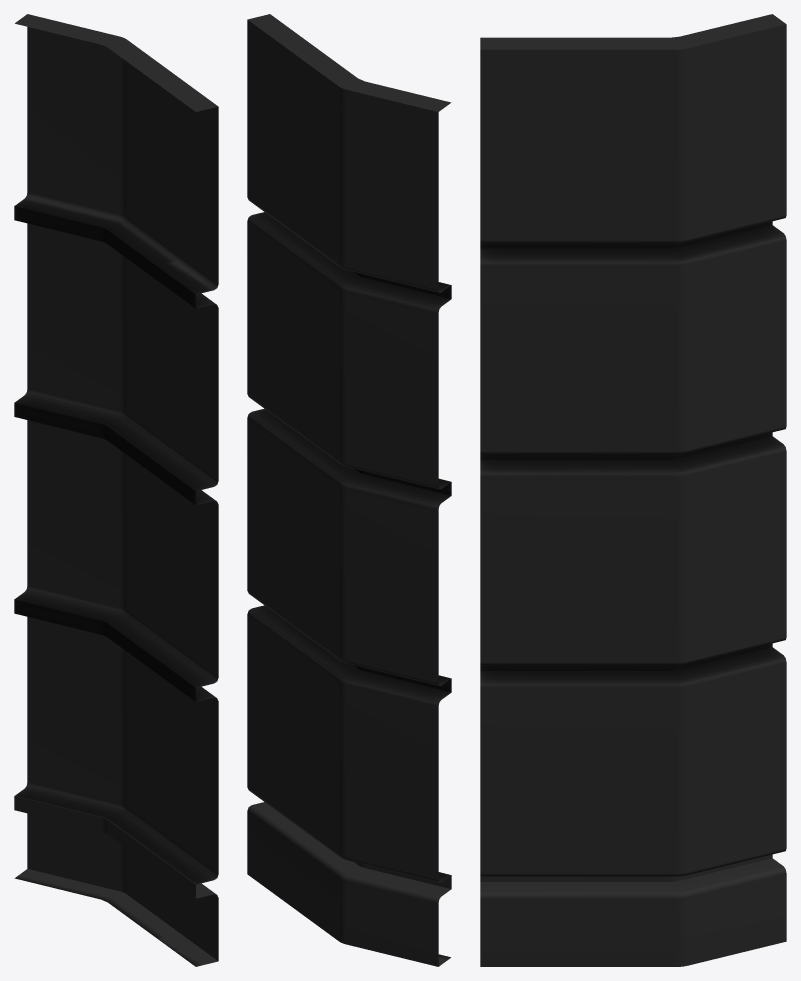
The model's file is XOB_LOT_SW.fbx.
The picture shows the model from 3 angles, left to right: view 1: azimuth 30°, elevation 25°; view 2: azimuth 210°, elevation 25°; view 3: azimuth 270°, elevation 25°; orthographic projection. The views are drawn at different scales.
Visible parts, largest first — view 1: XOB_LOT_SW; view 2: XOB_LOT_SW; view 3: XOB_LOT_SW.
Boxes of the visible parts, x1=… form: XOB_LOT_SW: x1=14, y1=14, x2=218, y2=966; XOB_LOT_SW: x1=247, y1=14, x2=451, y2=966; XOB_LOT_SW: x1=480, y1=14, x2=786, y2=966.
Bounding box in the file's own units: 0.375 × 4.5 × 1.36.
